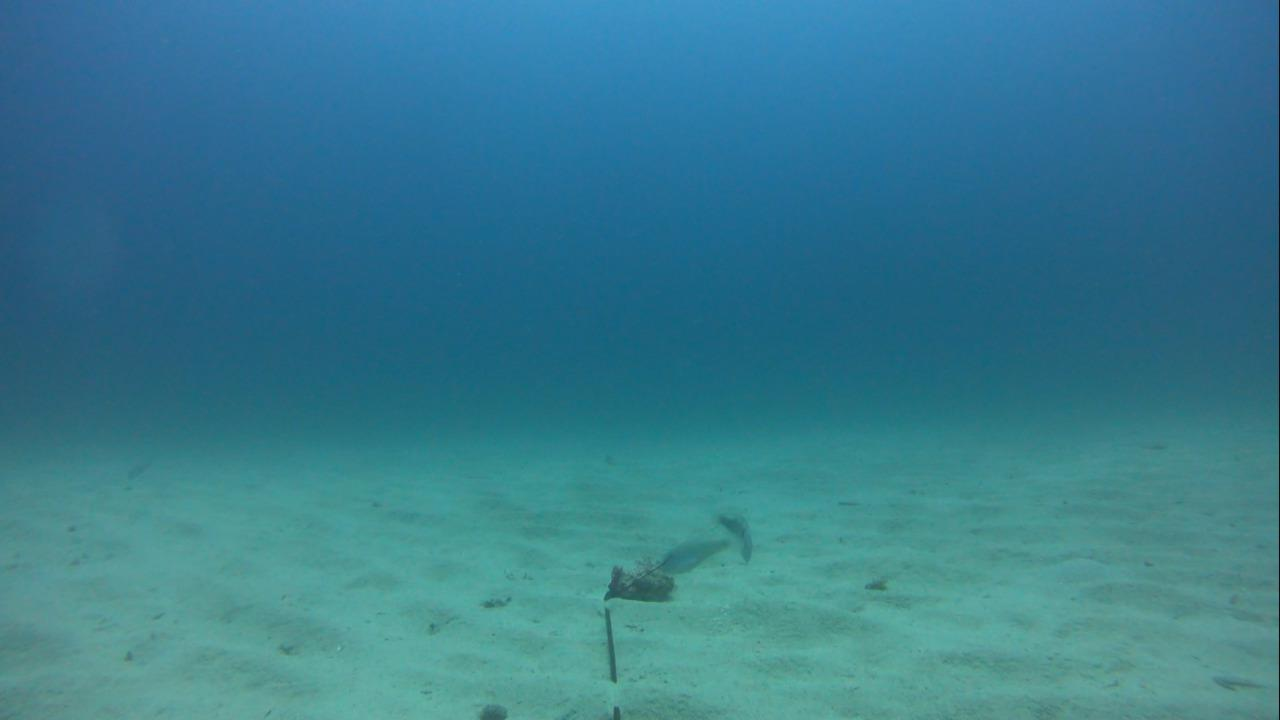raor: (655, 530, 726, 576), (707, 508, 760, 564)
